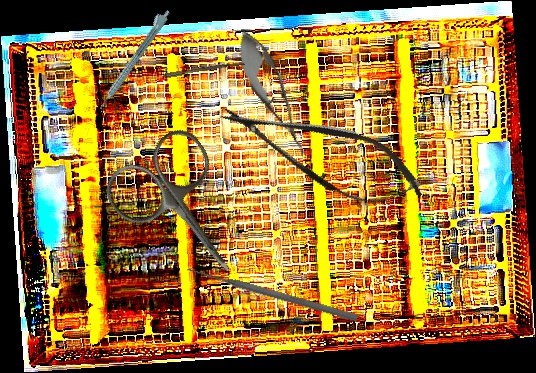Handpiece: (93, 6, 172, 111)
Iris Scissors: (97, 121, 271, 304)
Micro Scissor: (208, 81, 435, 225), (225, 22, 321, 165)
Pusher: (185, 263, 360, 324)
Surgical Spoon: (136, 59, 245, 84)
